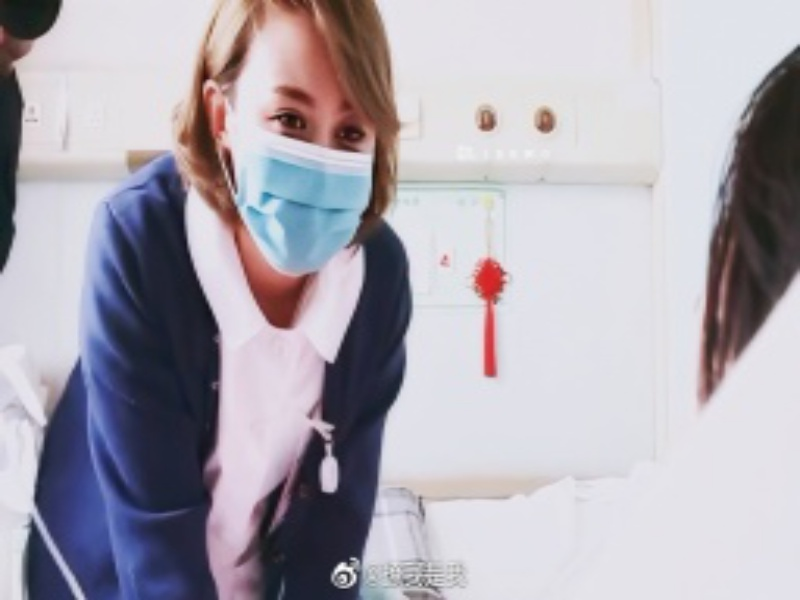ManaoArotava: (189, 5, 412, 302)
